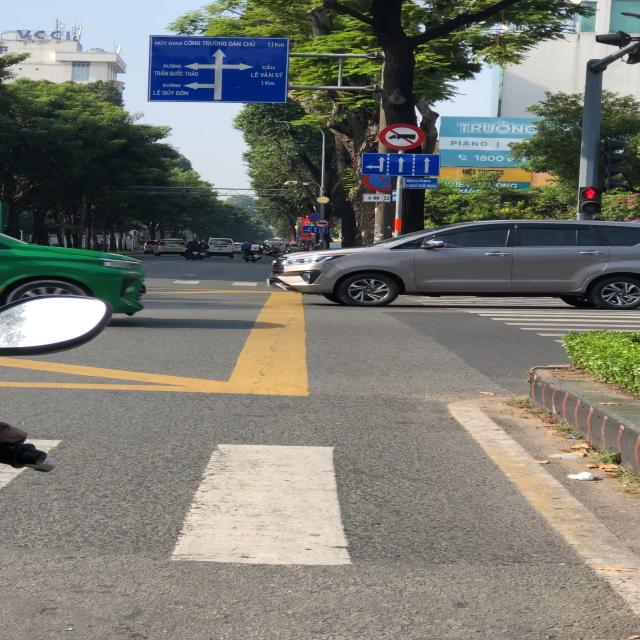Bien bao cam xe so-mi ro-mooc: (378, 122, 427, 152), (312, 218, 331, 229)
